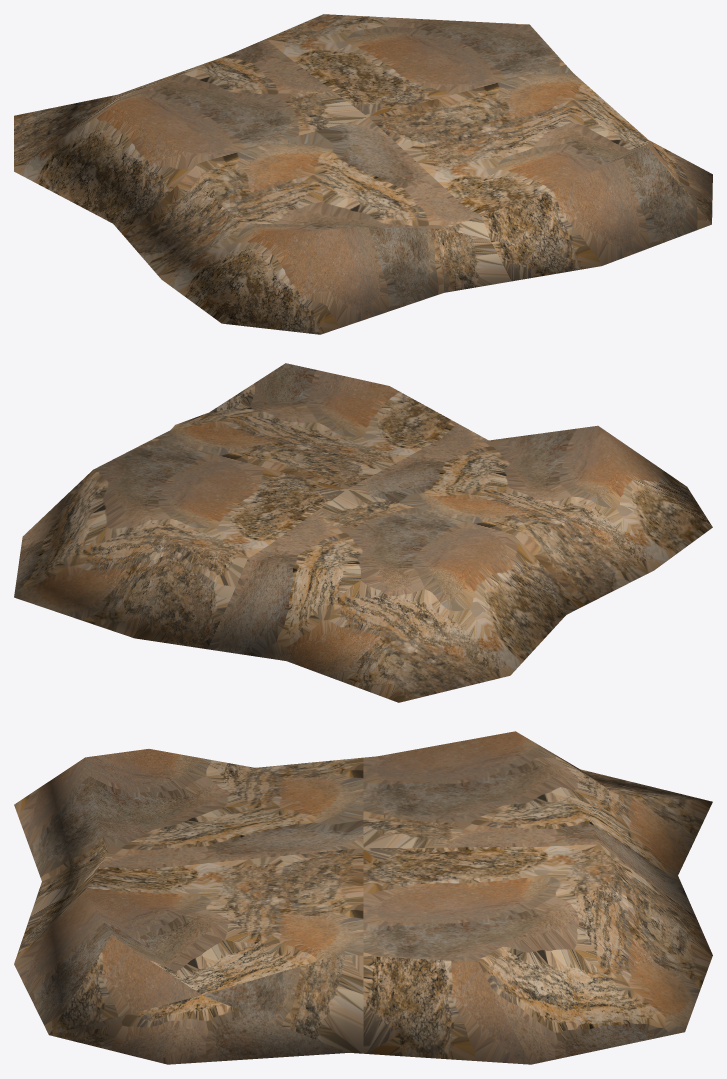
File: SM_CinderScenery_CliffMass.fbx
The picture shows the model from 3 angles, top to bottom: view 1: azimuth 30°, elevation 25°; view 2: azimuth 150°, elevation 25°; view 3: azimuth 270°, elevation 25°; orthographic projection. The views are drawn at different scales.
Parts seen in each view (by area): view 1: SM_CinderScenery_CliffMass; view 2: SM_CinderScenery_CliffMass; view 3: SM_CinderScenery_CliffMass.
Part boxes in pixels (left/top/right/bottom): SM_CinderScenery_CliffMass: left=14, top=14, right=712, bottom=334; SM_CinderScenery_CliffMass: left=14, top=363, right=712, bottom=702; SM_CinderScenery_CliffMass: left=14, top=731, right=712, bottom=1064.
Size of the model in its own units: 100 by 100 by 12.89.
